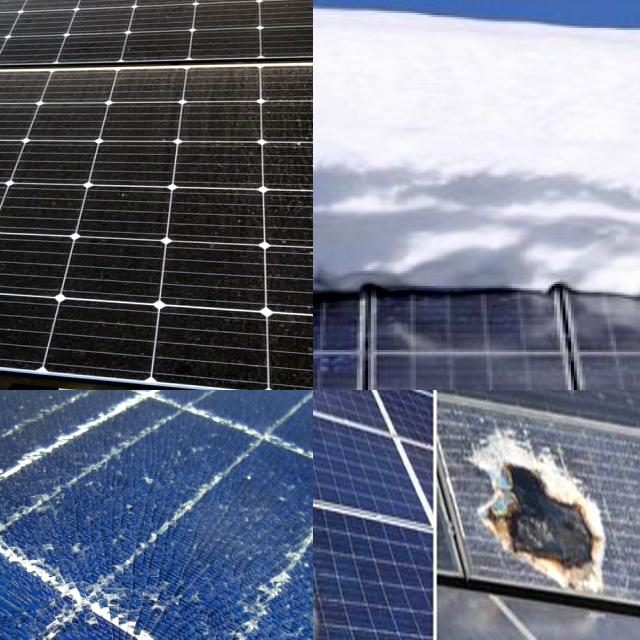crack: (75, 200, 313, 379), (0, 92, 234, 262), (0, 0, 313, 79), (0, 0, 313, 77), (0, 159, 130, 334)
panel: (313, 123, 640, 303)
shadow: (471, 400, 634, 602)
